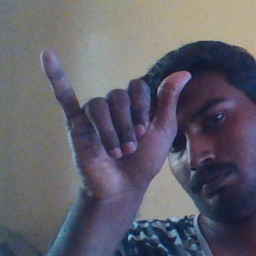J: (40, 48, 191, 189)
